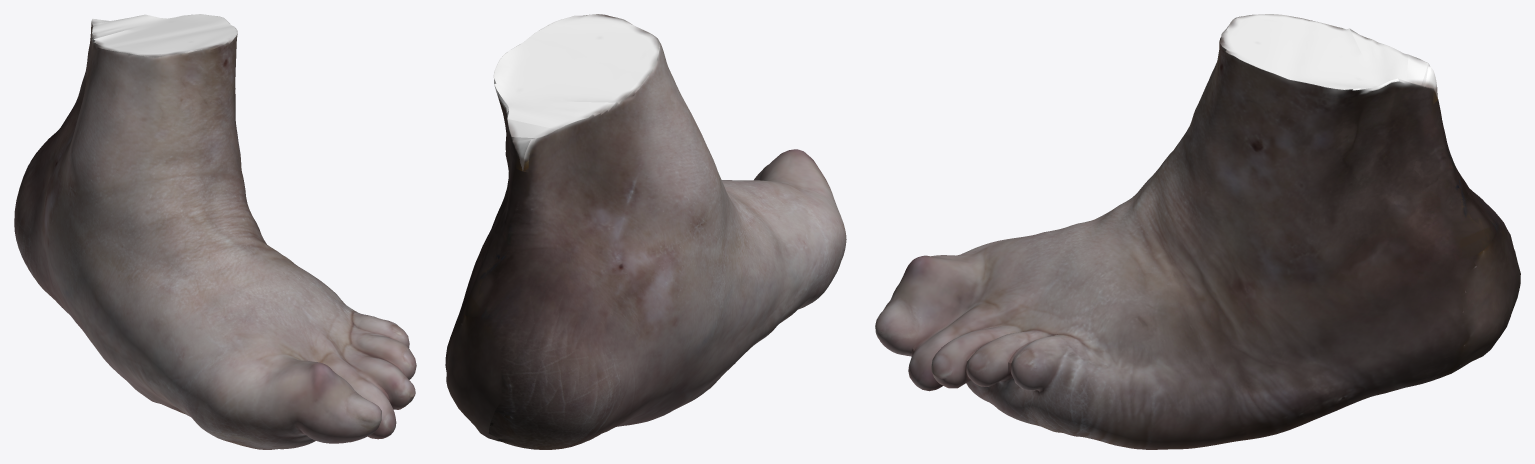
Rendered from JanelleFoot01.glb.
3 renders of one model, left to right at view 1: azimuth 30°, elevation 25°; view 2: azimuth 150°, elevation 25°; view 3: azimuth 270°, elevation 25°, orthographic. The views are drawn at different scales.
Parts seen in each view (by area): view 1: LP_Foot_mesh.001; view 2: LP_Foot_mesh.001; view 3: LP_Foot_mesh.001.
Boxes of the visible parts, x1,y1,x2,y2 form: LP_Foot_mesh.001: [14, 14, 416, 449]; LP_Foot_mesh.001: [445, 14, 846, 449]; LP_Foot_mesh.001: [875, 14, 1520, 449].
Size of the model in its own units: 0.0811 by 0.1151 by 0.1773.
Materials: 1 (1 with a texture image).
